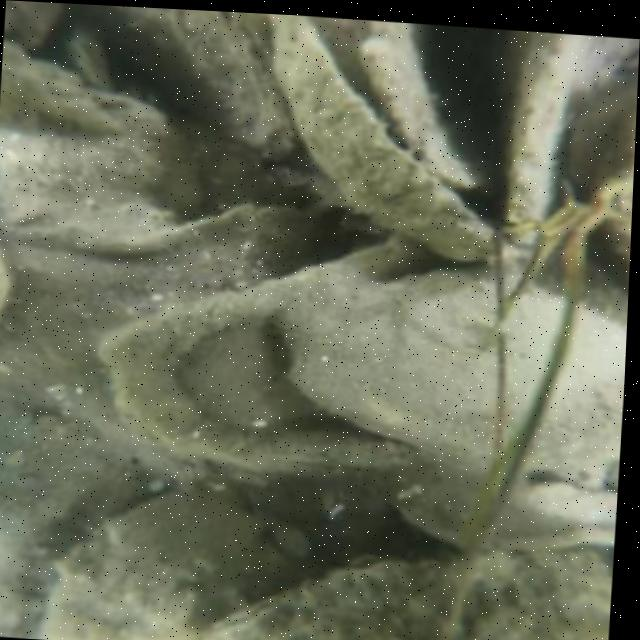Oyster-Closed: (524, 473, 615, 525)
Oyster-Indeterminate: (96, 230, 471, 469), (272, 263, 621, 473), (14, 485, 288, 640), (210, 545, 605, 640), (0, 52, 192, 237), (85, 4, 292, 150), (357, 23, 518, 195)
Oyster-Open: (275, 14, 586, 262)
